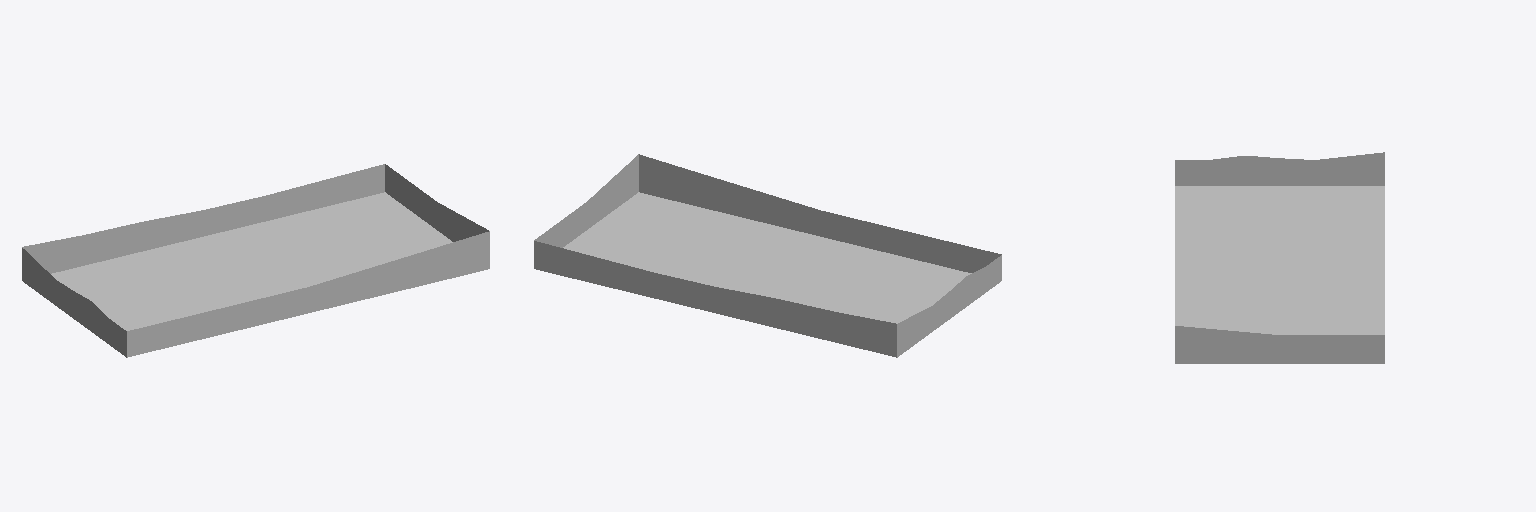
The model's file is sand_Sides.obj.
The picture shows the model from 3 angles: view 1: azimuth 30°, elevation 25°; view 2: azimuth 150°, elevation 25°; view 3: azimuth 270°, elevation 25°; orthographic projection.
Visible parts, largest first — view 1: Cube.003; view 2: Cube.003; view 3: Cube.003.
Boxes of the visible parts, box(x1,y1,x2,y2) form: Cube.003: box(22, 164, 489, 357); Cube.003: box(534, 154, 1001, 357); Cube.003: box(1175, 152, 1384, 363).
Bounding box in the file's own units: 20 × 2 × 10.